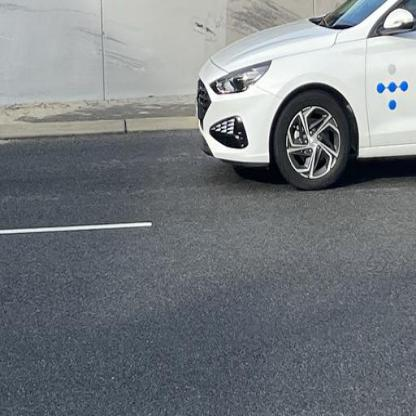Tire: (274, 92, 350, 190)
